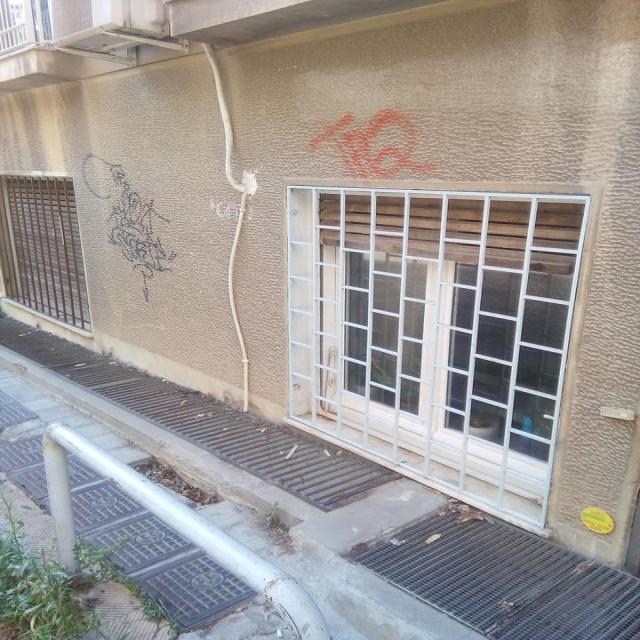nonspitting: (78, 153, 178, 306), (304, 105, 440, 180)
